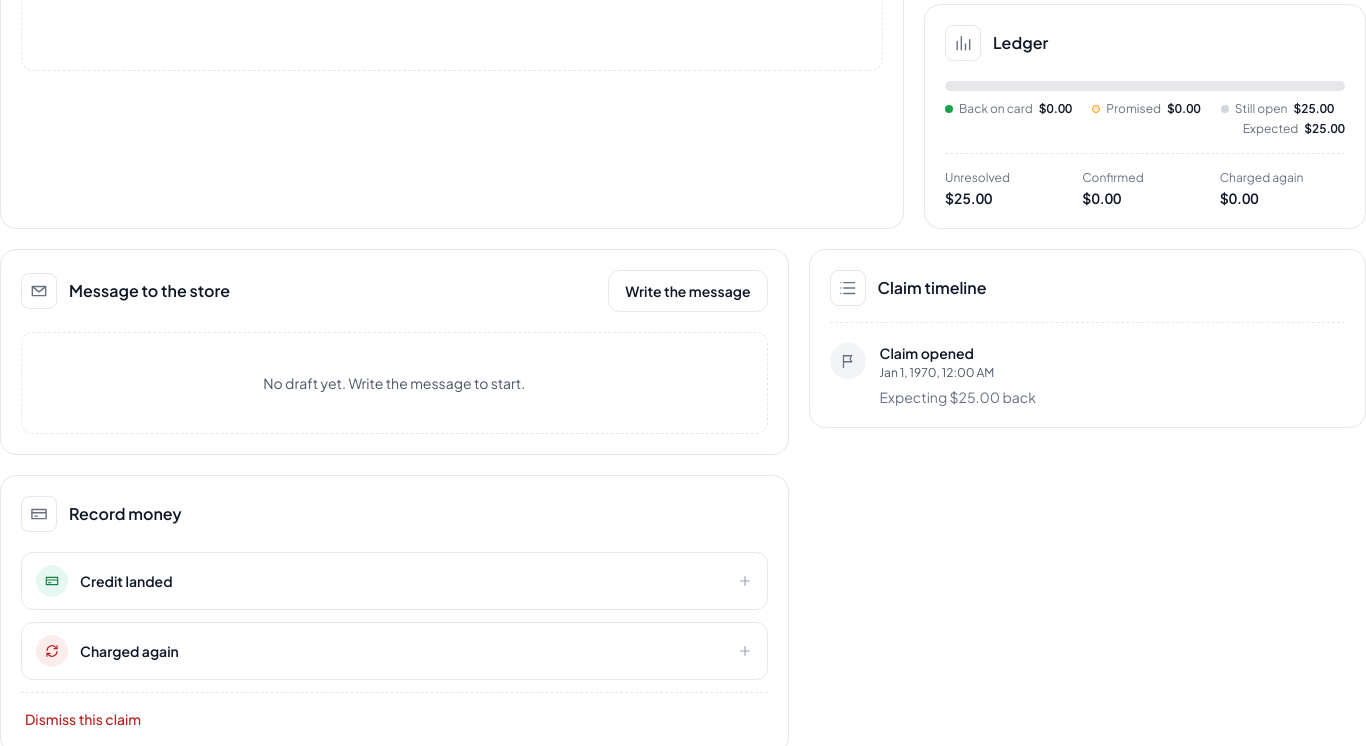
Test: Credit landed asks how it came back (DA-B-10) › store credit or a gift card → resolves the claim with a non-cash remedy (DA-B-16), never a cash credit
(page scrolled)
Click the heading "Credit landed".
click(52, 581)  # box [36,565,752,597]
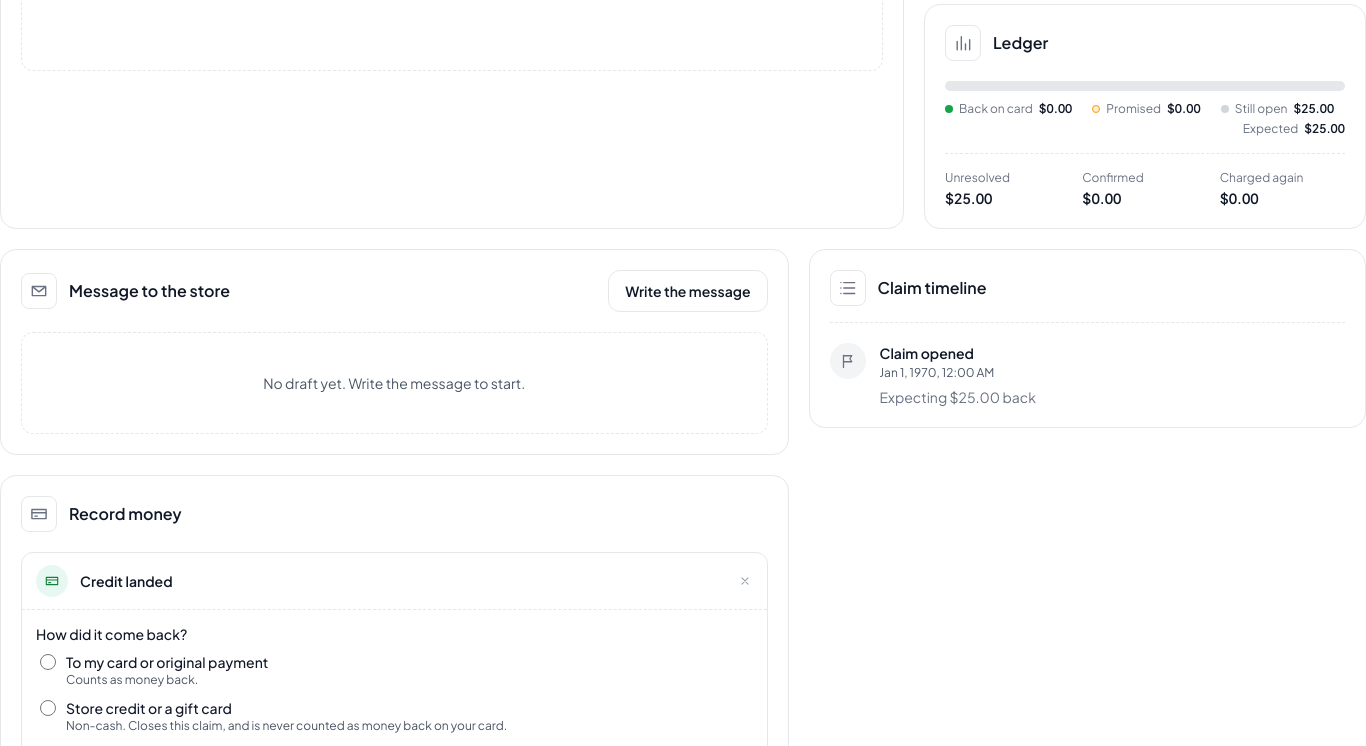
Click the radio button labelled "Store credit or a gift card".
click(48, 708)  # box [40,700,56,716]
(page scrolled)
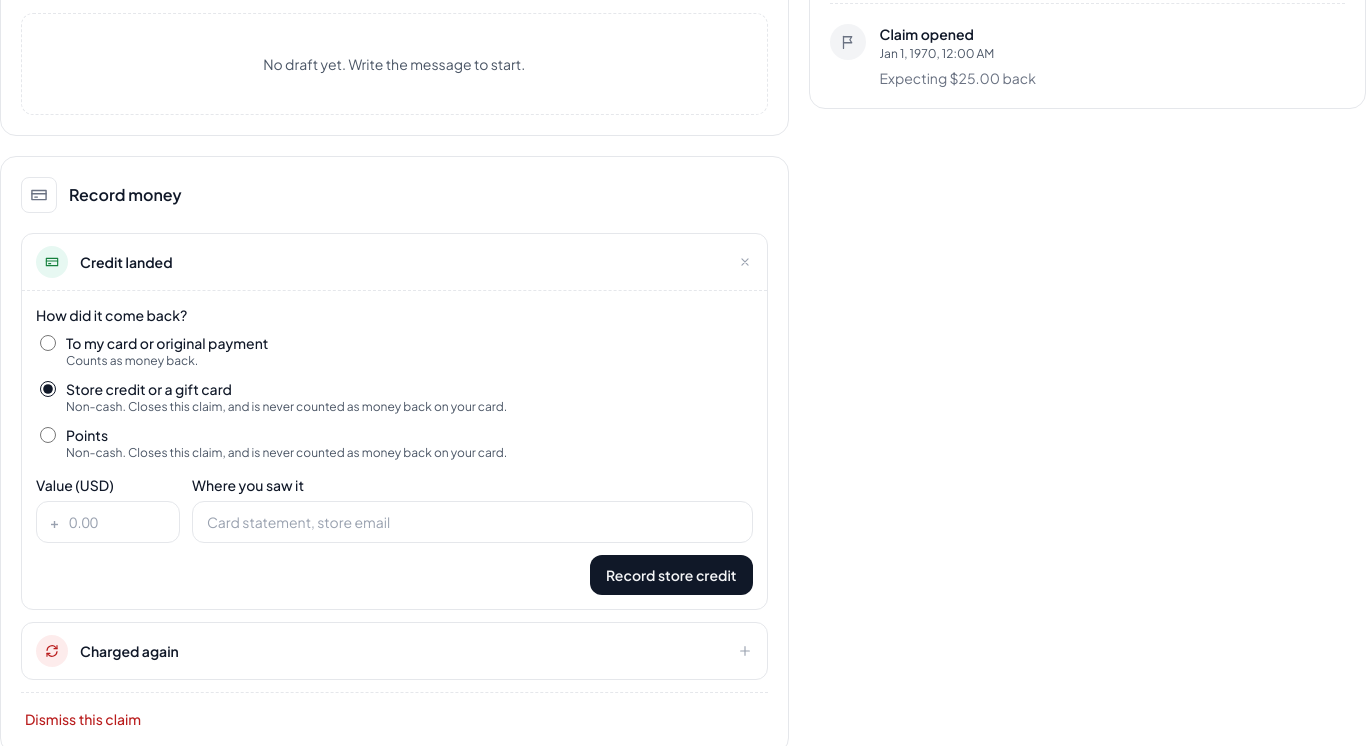
Type "25.00" into the field labelled "Value (USD)".
click(108, 522); type("25.00")  # box [36,501,180,543]
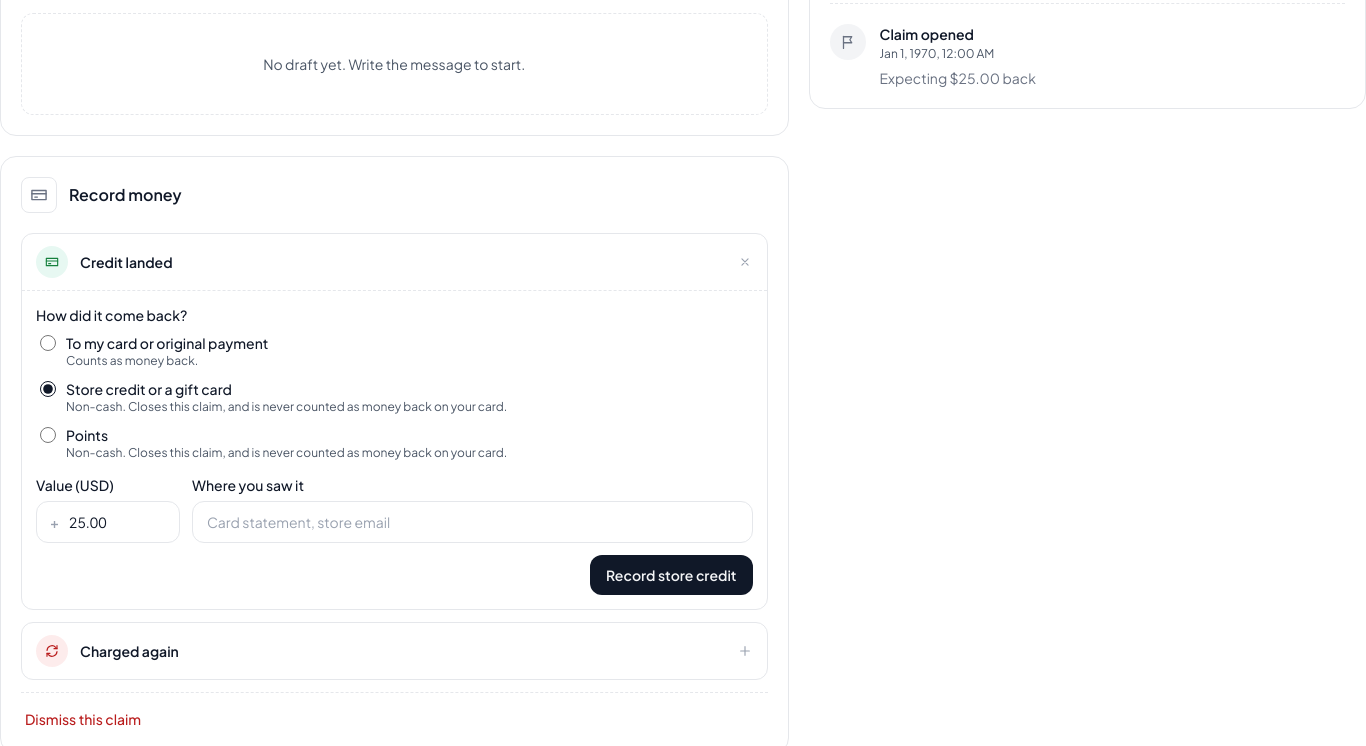
Click the button "Record store credit".
click(671, 575)  # box [590,555,752,595]
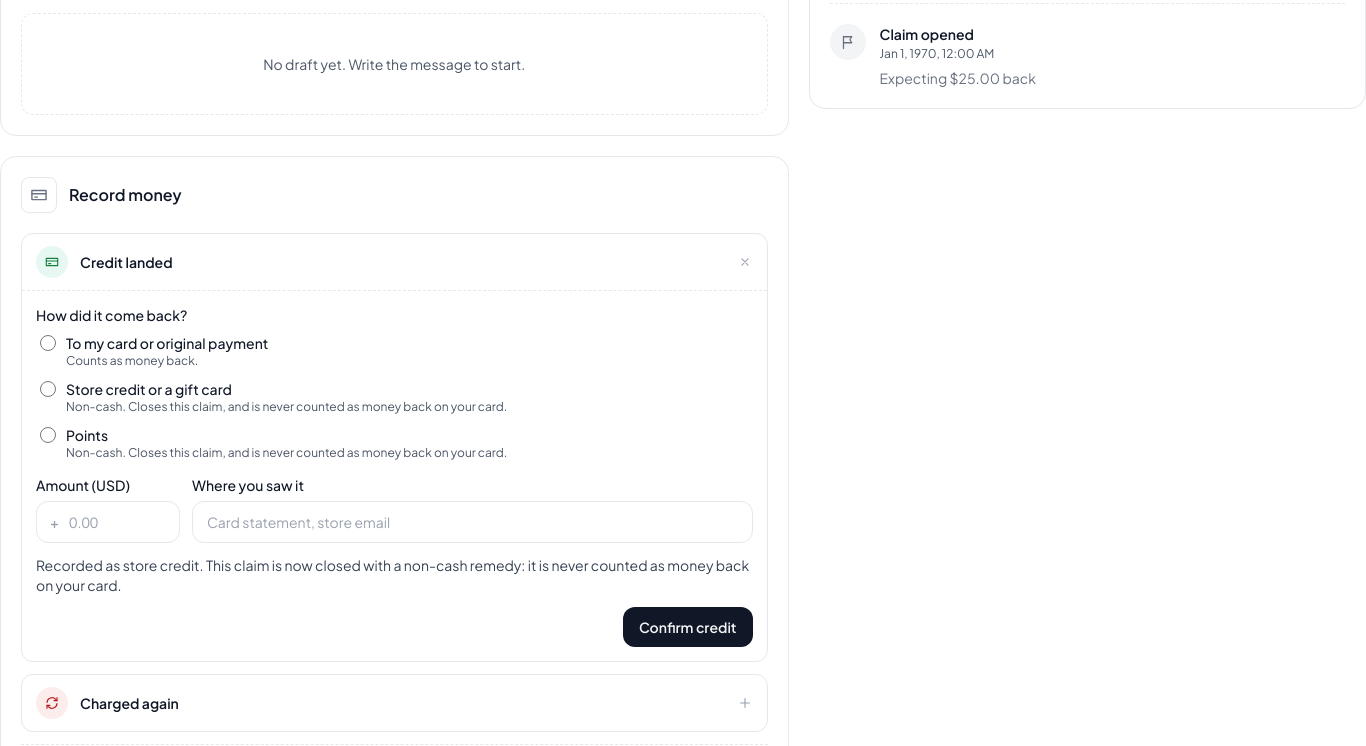
Check: the message shows "This claim is now closed with a non-cash remedy", box [36,556,749,594]
Check: the message shows "never counted as money back on your card", box [36,556,749,594]
